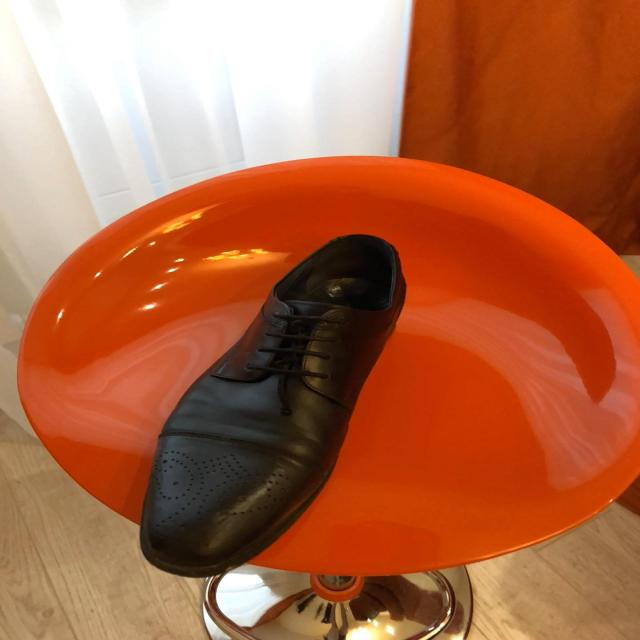shoe: (138, 235, 408, 581)
